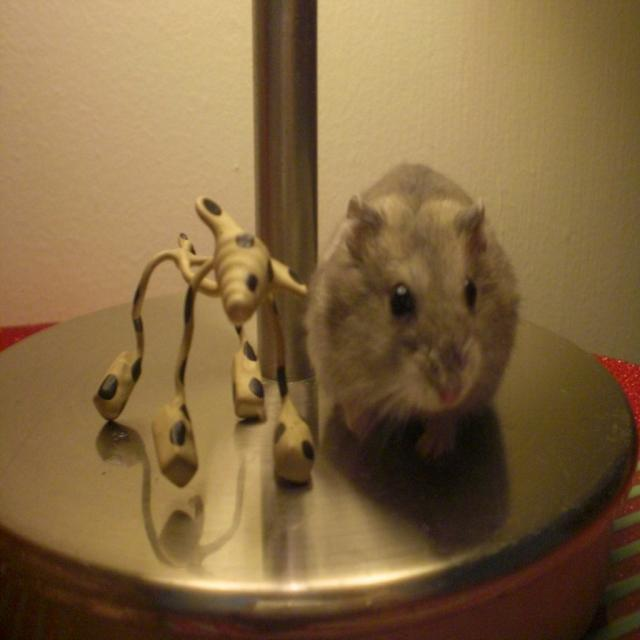rat: (300, 162, 526, 456)
